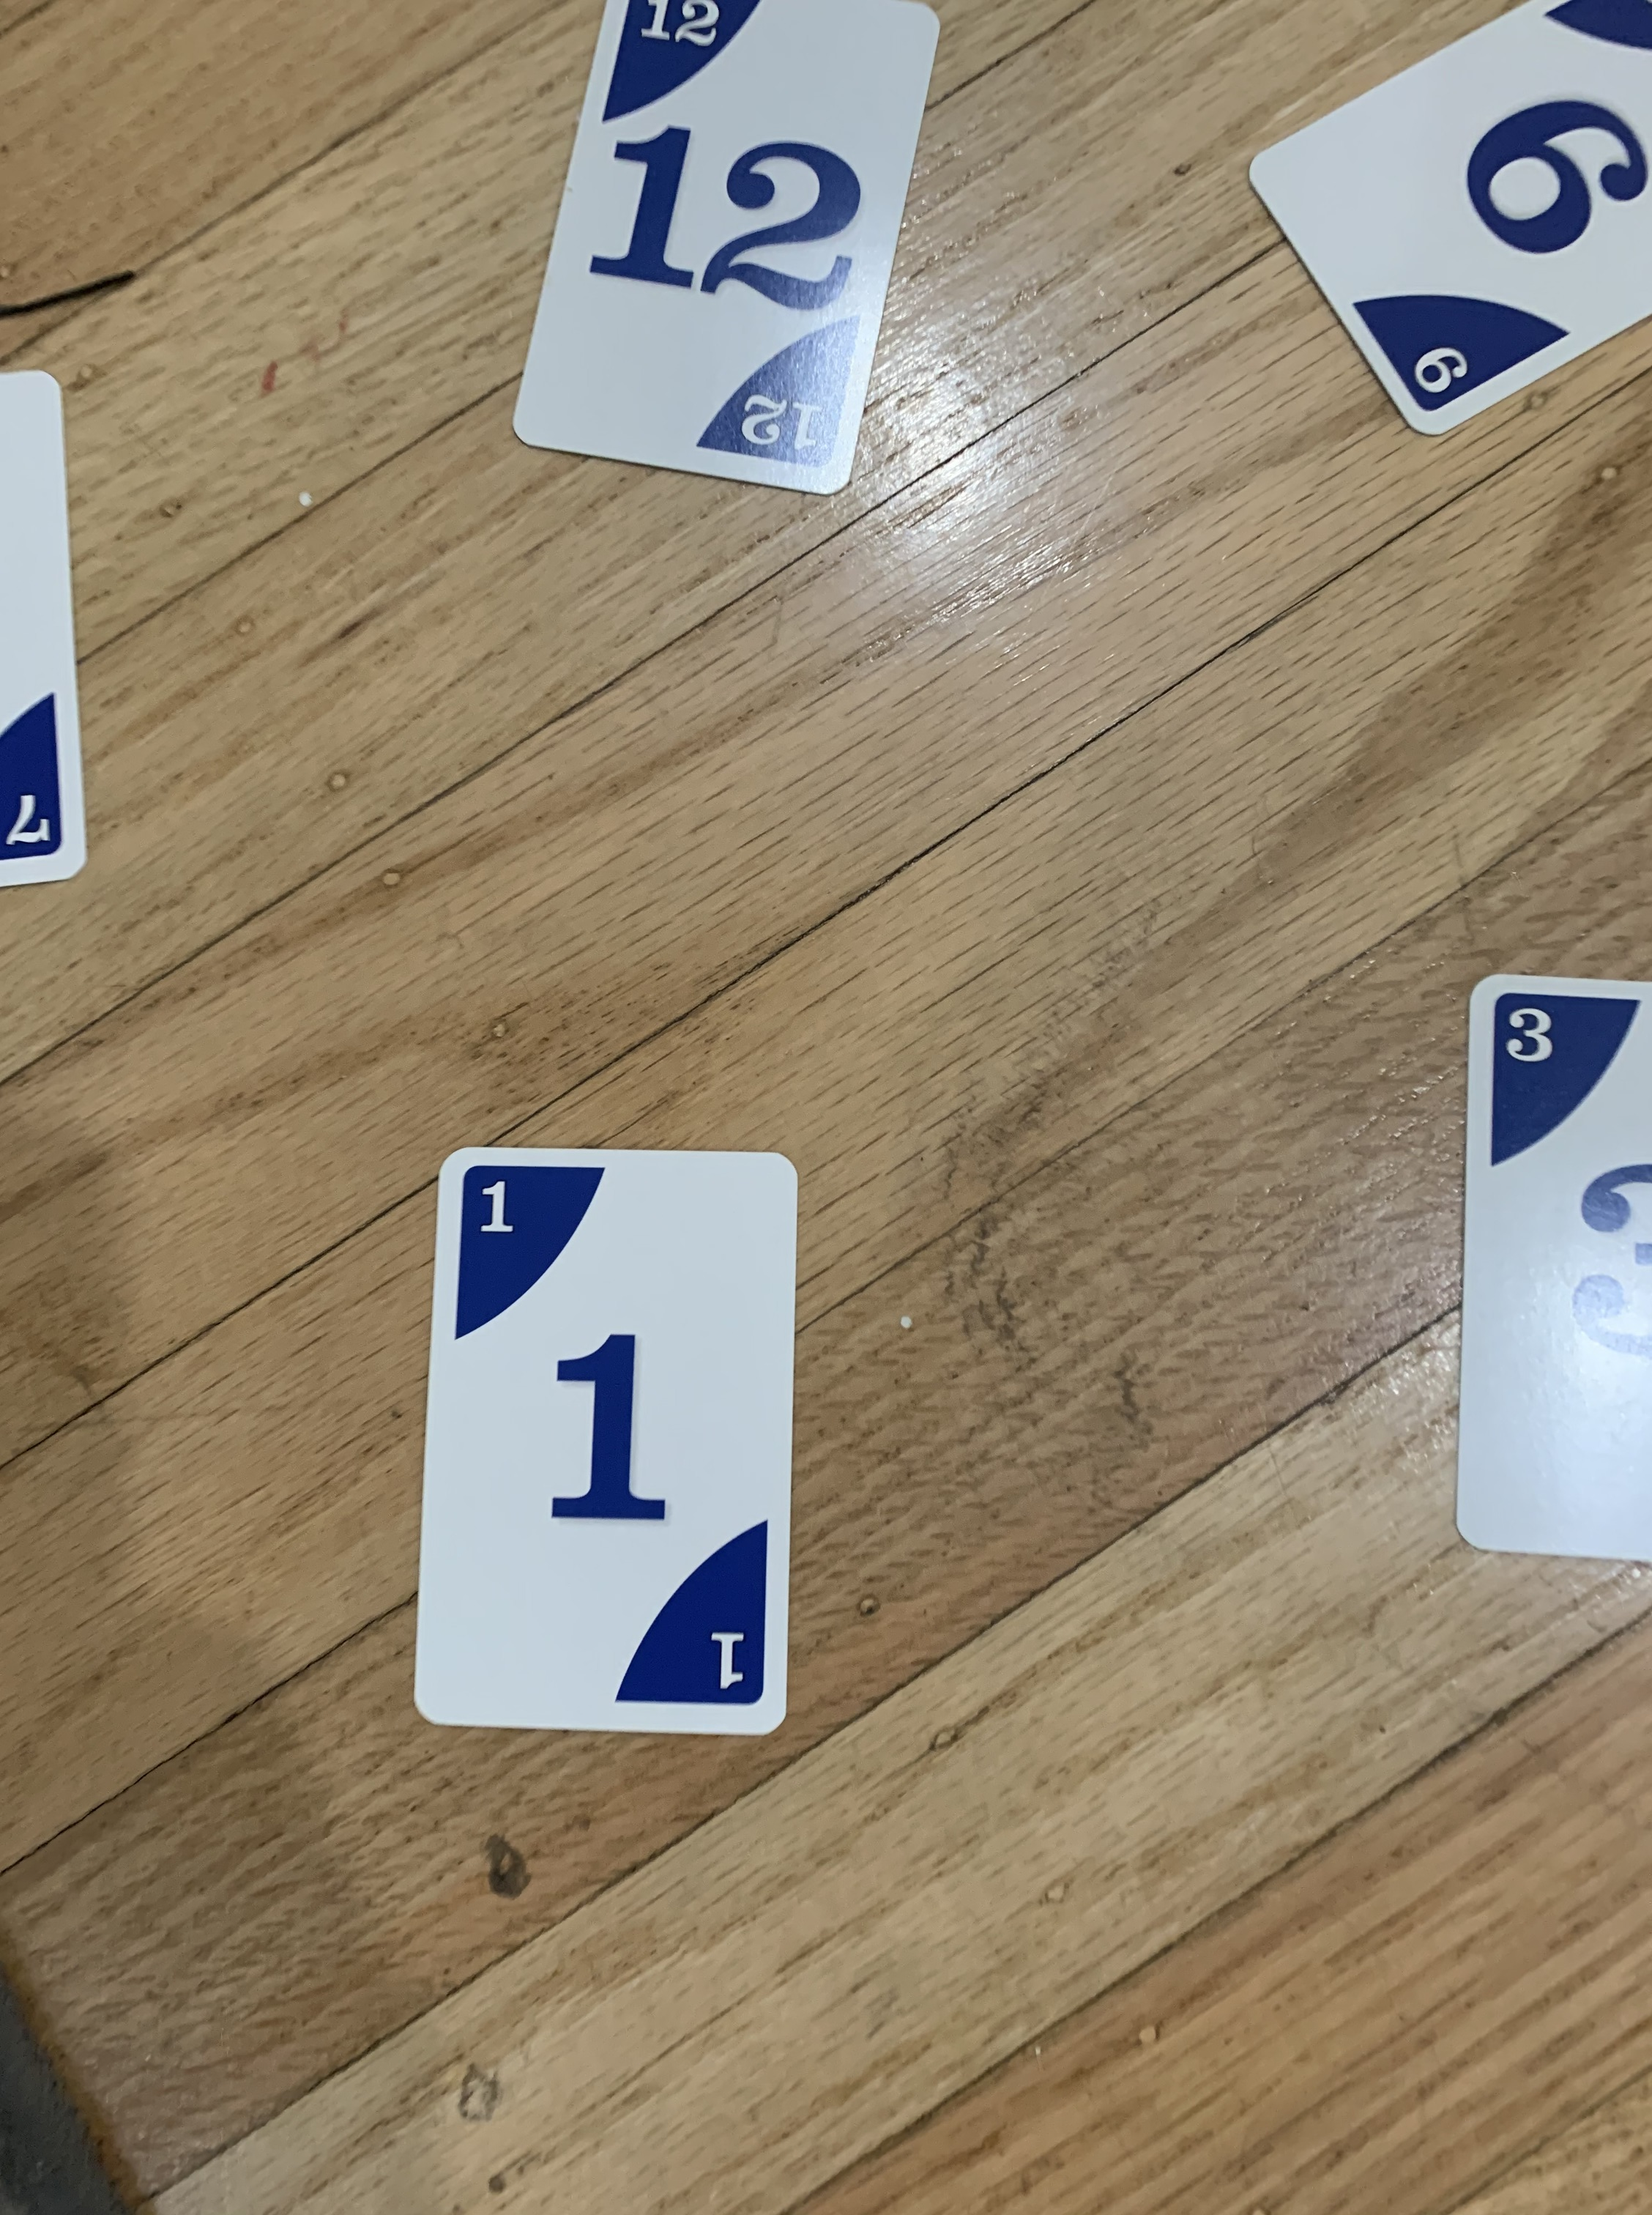one: (404, 1134, 807, 1745)
twelve: (507, 0, 944, 498)
